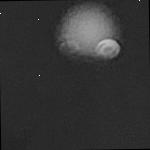colony: (54, 0, 130, 74)
